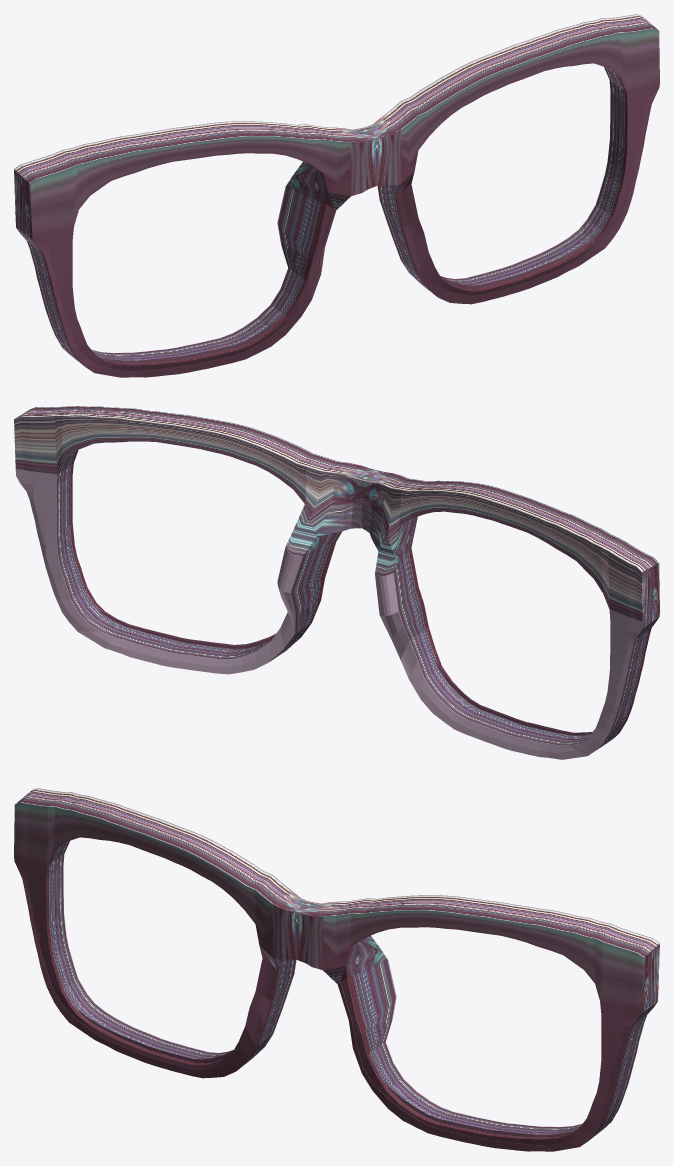
File: lensesFrame.obj
3 views of the same model, one above another, from view 1: azimuth 30°, elevation 25°; view 2: azimuth 150°, elevation 25°; view 3: azimuth 330°, elevation 25° (orthographic).
Visible parts, largest first — view 1: Cube.001; view 2: Cube.001; view 3: Cube.001.
Boxes of the visible parts, x1,y1,x2,y2 form: Cube.001: [14, 14, 659, 377]; Cube.001: [14, 406, 659, 759]; Cube.001: [14, 788, 659, 1151].
Bounding box in the file's own units: 0.1439 × 0.0518 × 0.0196.
1 material, 1 textured.
